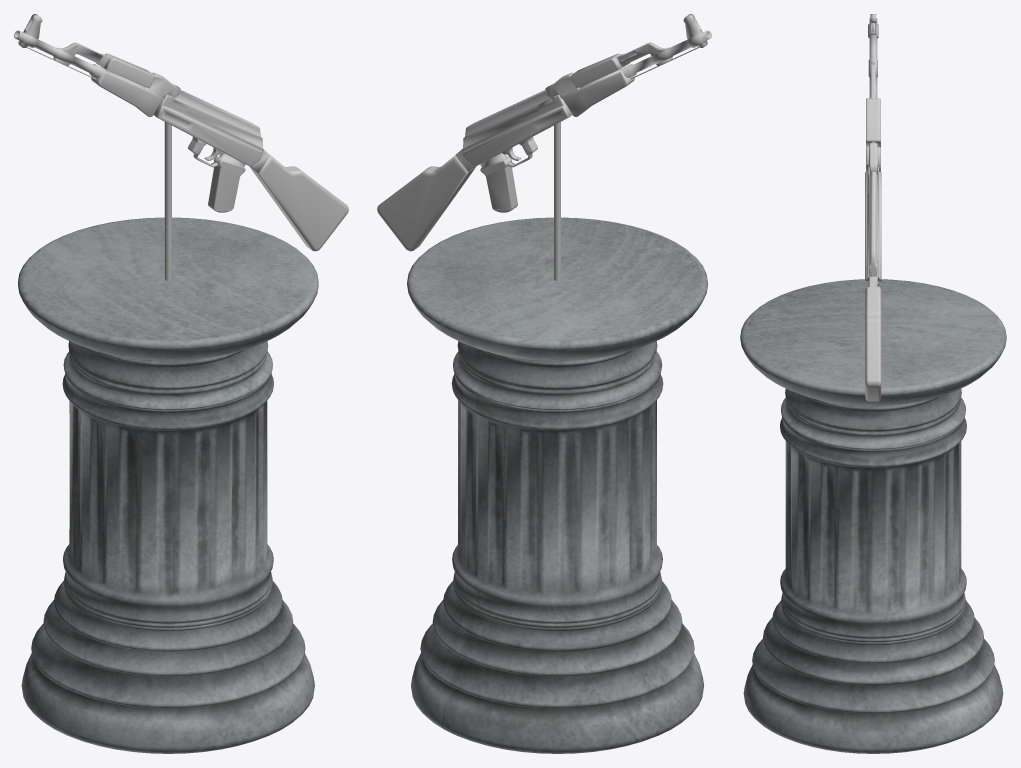
File: AK47Pedestal.fbx
3 renders of one model, left to right at view 1: azimuth 30°, elevation 25°; view 2: azimuth 150°, elevation 25°; view 3: azimuth 270°, elevation 25°, orthographic. The views are drawn at different scales.
Parts seen in each view (by area): view 1: Cylinder, Cylinder.006; view 2: Cylinder, Cylinder.006; view 3: Cylinder, Cylinder.006.
Part boxes in pixels (x1,y1,x2,y2): Cylinder: (18,217,318,753); Cylinder.006: (14,14,348,280); Cylinder: (407,217,707,753); Cylinder.006: (377,14,711,280); Cylinder: (740,279,1006,753); Cylinder.006: (865,14,881,401).
Size of the model in its own units: 280 by 578 by 221.
